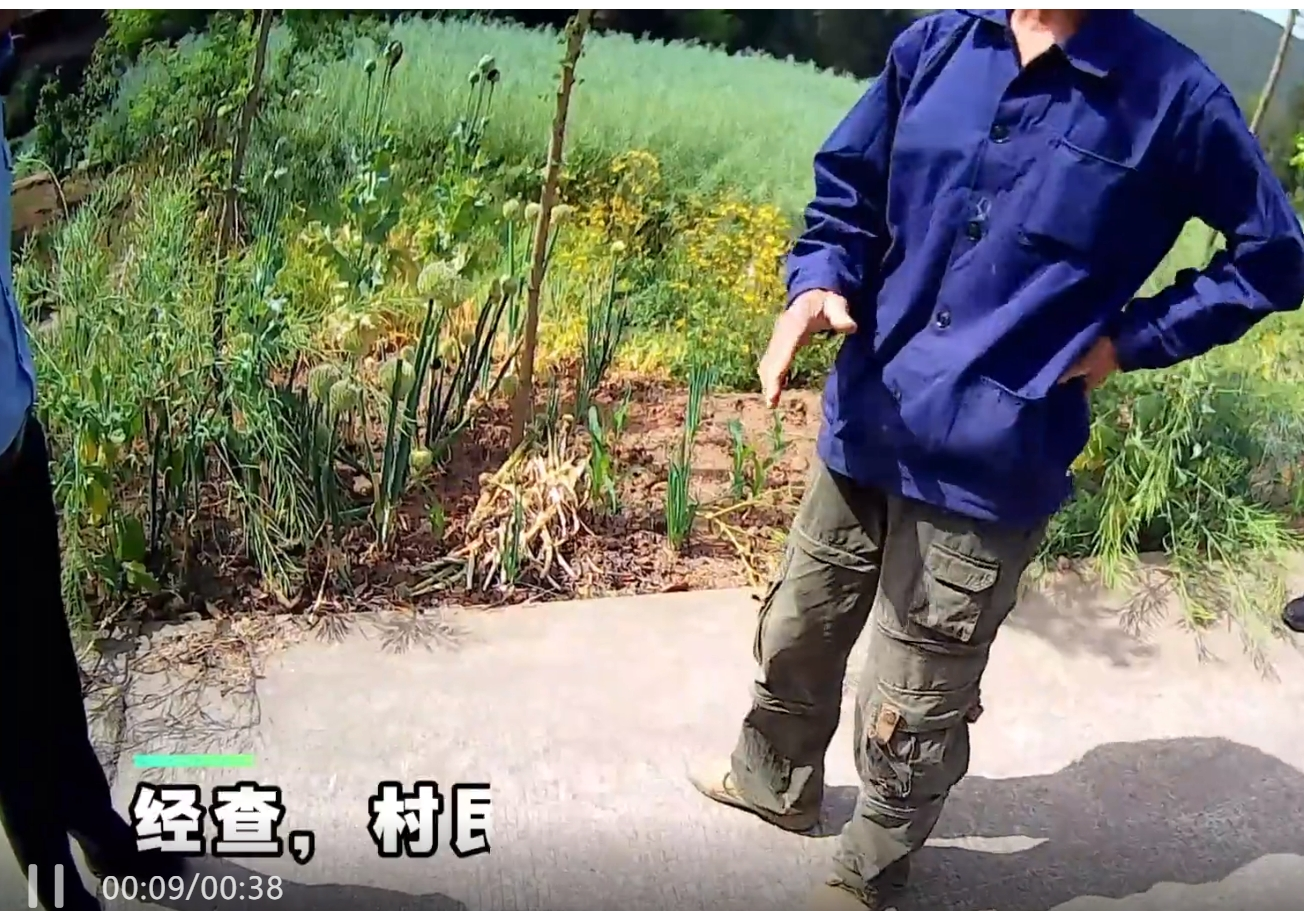Poppy: (75, 35, 521, 468)
